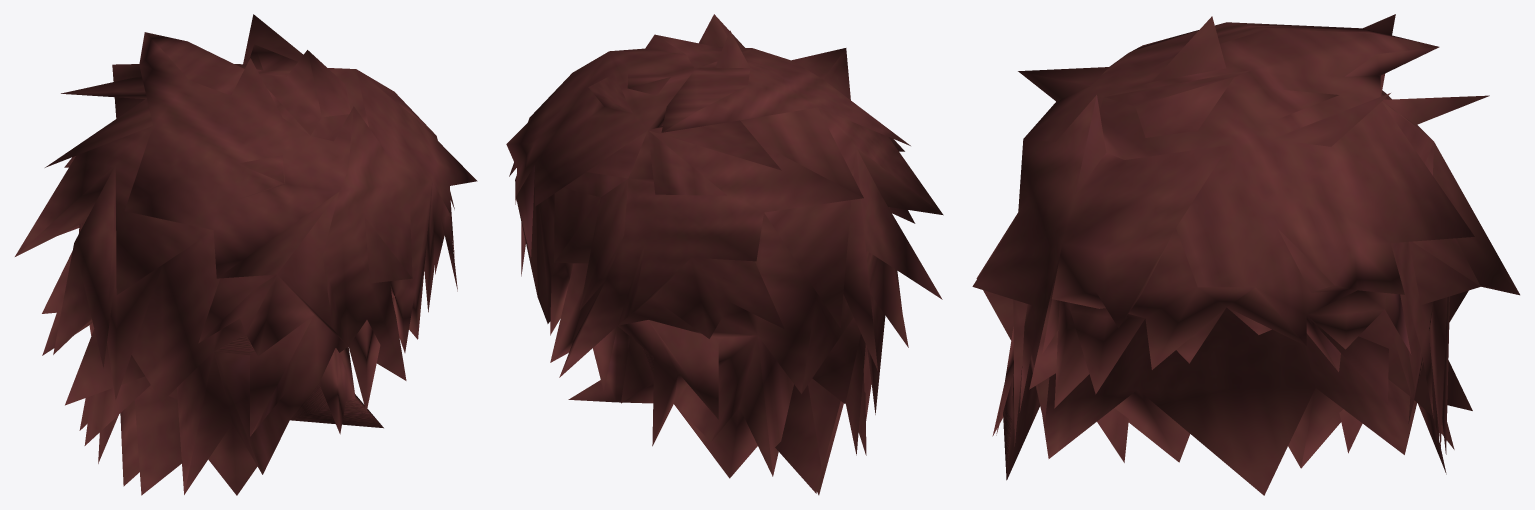
The model's file is 42-low-poly-mod-cut-red-122091889431230.glb.
3 views of the same model, side by side, from view 1: azimuth 30°, elevation 25°; view 2: azimuth 150°, elevation 25°; view 3: azimuth 270°, elevation 25° (orthographic). The views are drawn at different scales.
Parts seen in each view (by area): view 1: 42-low-poly-mod-cut-red-122091889431230; view 2: 42-low-poly-mod-cut-red-122091889431230; view 3: 42-low-poly-mod-cut-red-122091889431230.
Part boxes in pixels (x1,y1,x2,y2): 42-low-poly-mod-cut-red-122091889431230: (15, 14, 477, 495); 42-low-poly-mod-cut-red-122091889431230: (506, 14, 943, 495); 42-low-poly-mod-cut-red-122091889431230: (972, 14, 1519, 495).
Size of the model in its own units: 1.72 by 1.85 by 1.68.
1 material, 1 textured.
